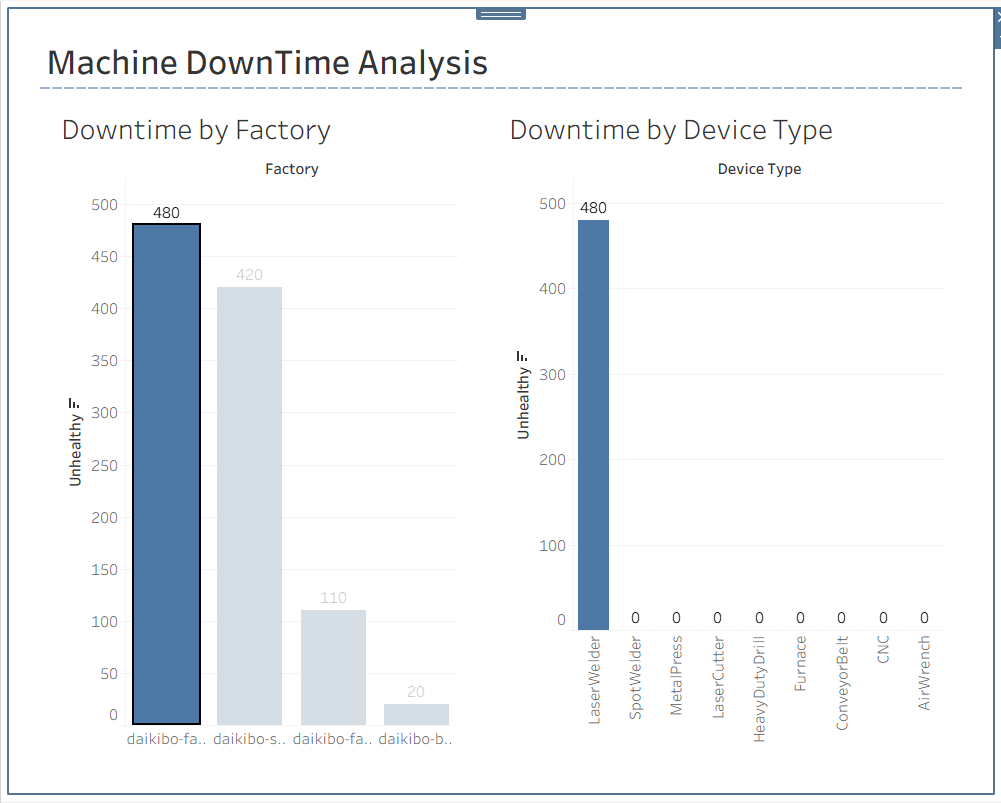

The page's visual inventory and layout, read from the dashboard file:
{"tool":"tableau","page":{"name":"Machine DownTime Analysis","canvas":[1000,800],"ordinal":0},"visuals":[{"type":"title","box":[38,33,924,53]},{"type":"worksheet","title":"Downtime by Factory","mark":"Automatic","rows":["Calculation_1506394371289088"],"cols":["factory"],"box":[52,100,408.6,653]},{"type":"blank","box":[460.6,100,39.4,653]},{"type":"worksheet","title":"Downtime by Device Type","mark":"Automatic","rows":["Calculation_1506394371289088"],"cols":["deviceType"],"box":[500,100,448,653]}]}

Visuals, with their boxes in screenshot pixels (x1, y1, x2, y2), scaled from the page's 1000x800 canvas onto the 1001x803 screenshot:
title: bbox=(38, 33, 963, 86)
"Downtime by Factory" worksheet: bbox=(52, 100, 461, 756)
blank: bbox=(461, 100, 500, 756)
"Downtime by Device Type" worksheet: bbox=(500, 100, 949, 756)
